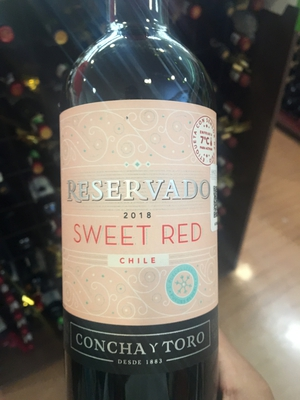reservado sweet red: (51, 6, 229, 396)
